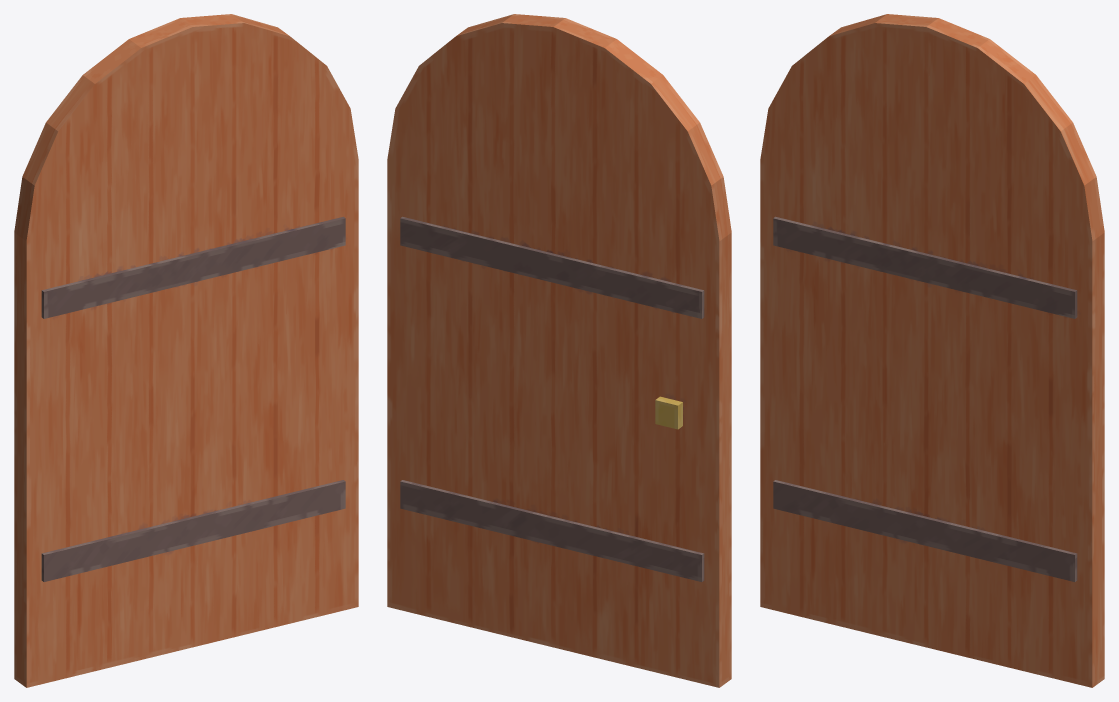
File: door2_wood.bundle.fbx
3 views of the same model, side by side, from view 1: azimuth 30°, elevation 25°; view 2: azimuth 150°, elevation 25°; view 3: azimuth 330°, elevation 25° (orthographic).
Parts seen in each view (by area): view 1: door2_wood, door2_wood_s05, door2_wood_s01, door2_wood_s03, door2_wood_s00, door2_wood_s02, door2_wood_s04; view 2: door2_wood, door2_wood_s04, door2_wood_s01, door2_wood_s03, door2_wood_s05, door2_wood_s02, door2_wood_s00; view 3: door2_wood, door2_wood_s04, door2_wood_s03, door2_wood_s01, door2_wood_s02, door2_wood_s00, door2_wood_s05.
Part boxes in pixels (left/top/right/bottom): door2_wood: left=14, top=14, right=358, bottom=687; door2_wood_s05: left=14, top=18, right=225, bottom=321; door2_wood_s01: left=186, top=15, right=358, bottom=206; door2_wood_s03: left=14, top=314, right=224, bottom=562; door2_wood_s00: left=14, top=489, right=194, bottom=686; door2_wood_s02: left=186, top=426, right=358, bottom=645; door2_wood_s04: left=55, top=212, right=271, bottom=363; door2_wood: left=387, top=14, right=731, bottom=687; door2_wood_s04: left=387, top=204, right=688, bottom=407; door2_wood_s01: left=387, top=14, right=586, bottom=236; door2_wood_s03: left=387, top=314, right=731, bottom=563; door2_wood_s05: left=519, top=15, right=731, bottom=322; door2_wood_s02: left=387, top=414, right=561, bottom=646; door2_wood_s00: left=552, top=489, right=731, bottom=686; door2_wood: left=760, top=14, right=1104, bottom=687; door2_wood_s04: left=809, top=188, right=1104, bottom=488; door2_wood_s03: left=760, top=240, right=1092, bottom=551; door2_wood_s01: left=895, top=39, right=1104, bottom=318; door2_wood_s02: left=919, top=494, right=1104, bottom=687; door2_wood_s00: left=760, top=417, right=924, bottom=639; door2_wood_s05: left=760, top=19, right=965, bottom=240.
Bounding box in the file's own units: 4.36 × 7.78 × 0.49.
Materials: 1 (1 with a texture image).
